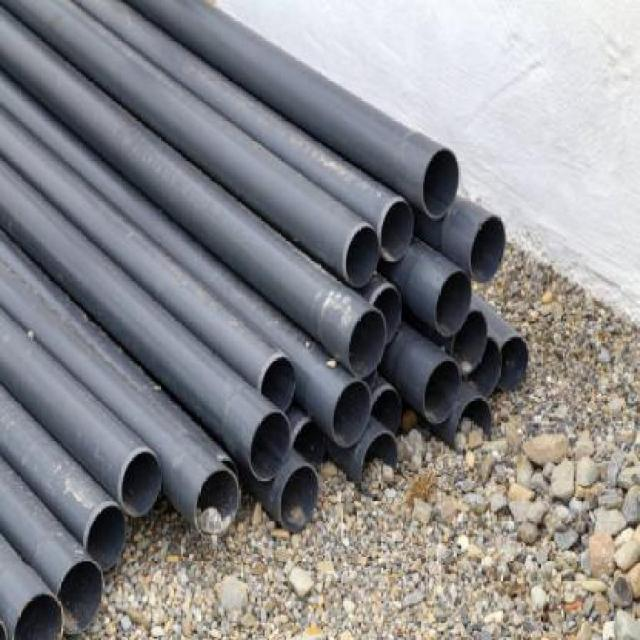pipe: (57, 560, 105, 636), (194, 468, 240, 541), (249, 411, 291, 482), (333, 380, 373, 448), (348, 308, 386, 379), (122, 451, 162, 517), (280, 465, 320, 531), (86, 505, 126, 571), (423, 148, 460, 219), (423, 359, 462, 425), (469, 215, 506, 283), (360, 431, 398, 497), (12, 593, 65, 639), (436, 271, 473, 336), (451, 309, 488, 374), (345, 225, 381, 288), (380, 200, 414, 263), (260, 356, 297, 413), (468, 336, 502, 396), (456, 397, 493, 452), (497, 337, 530, 392), (374, 286, 402, 345), (371, 388, 404, 433)
